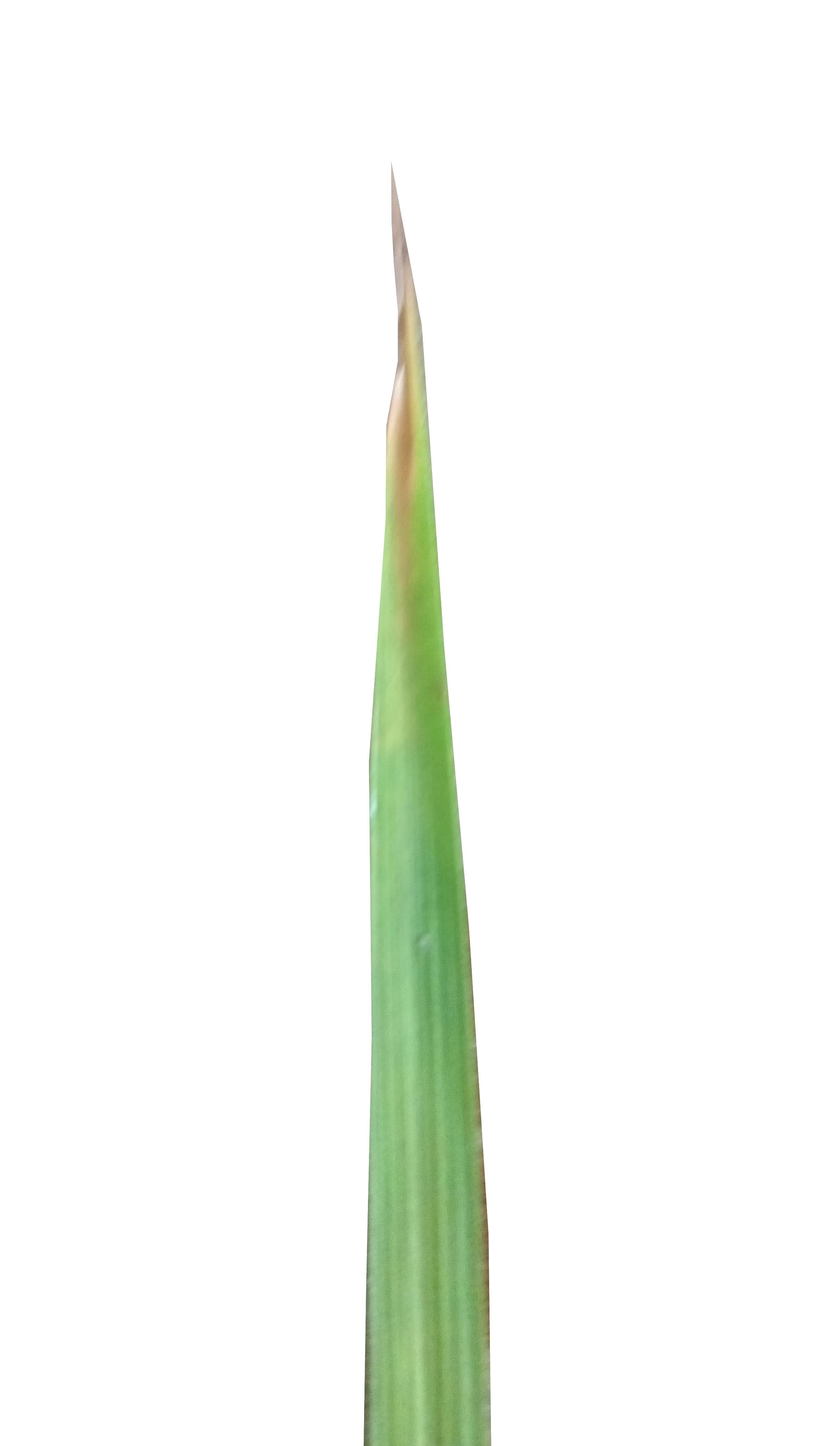Tungro: (374, 341, 469, 878)
